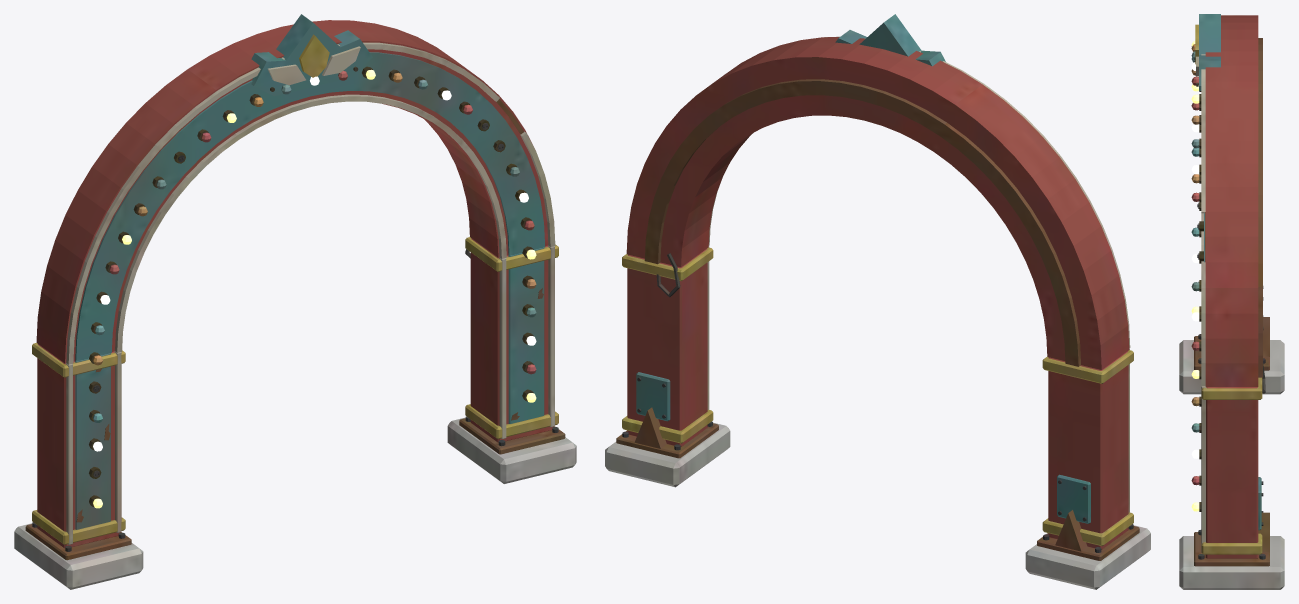
Rendered from CE09_carnival_entry_arch.glb.
3 views of the same model, side by side, from view 1: azimuth 30°, elevation 25°; view 2: azimuth 150°, elevation 25°; view 3: azimuth 270°, elevation 25° (orthographic). The views are drawn at different scales.
Visible parts, largest first — view 1: Rolled steel arch; view 2: Rolled steel arch; view 3: Rolled steel arch.
Boxes of the visible parts, x1,y1,x2,y2 form: Rolled steel arch: (14,14,576,589); Rolled steel arch: (605,14,1150,589); Rolled steel arch: (1179,14,1284,589).
Bounding box in the file's own units: 6 × 5.62 × 1.16.
14 materials, 12 textured.
